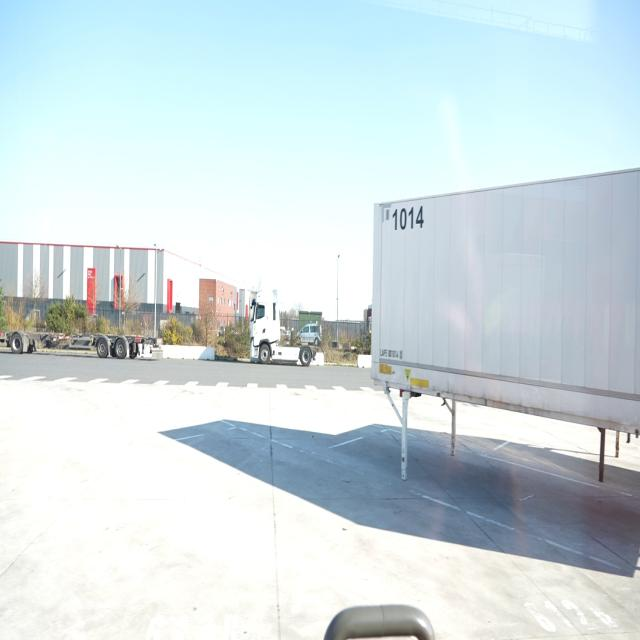Code: (390, 200, 428, 237)
